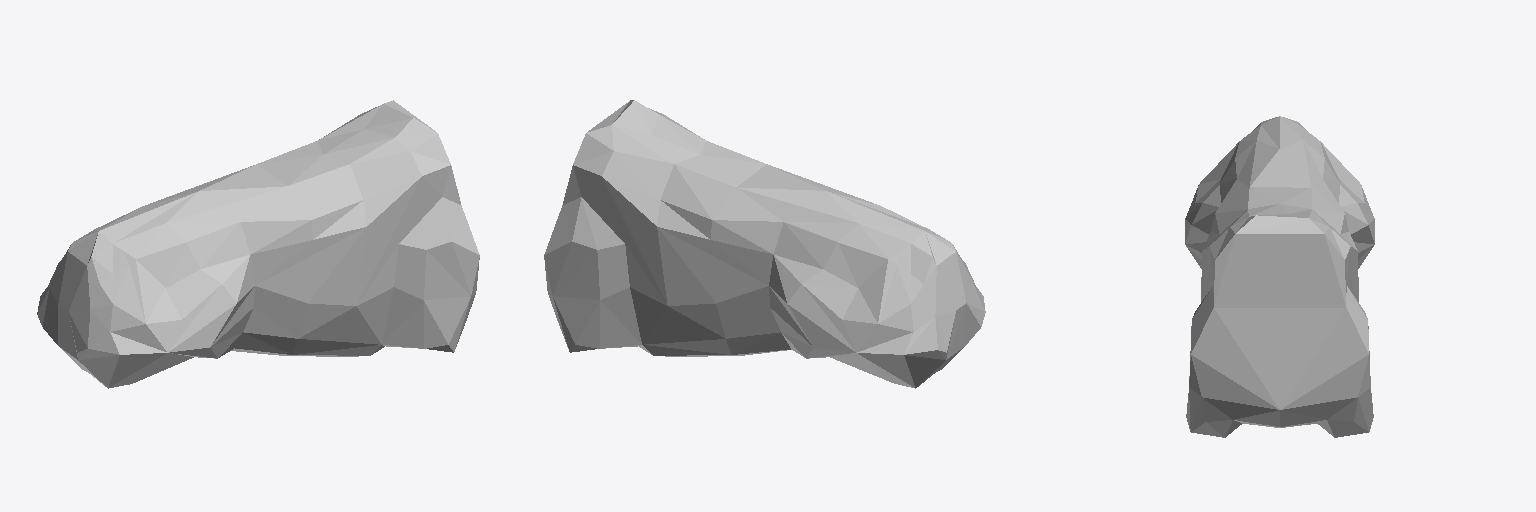
The model's file is wolf_body.obj.
3 views of the same model, side by side, from view 1: azimuth 30°, elevation 25°; view 2: azimuth 150°, elevation 25°; view 3: azimuth 270°, elevation 25° (orthographic).
Parts seen in each view (by area): view 1: Wolf; view 2: Wolf; view 3: Wolf.
Part boxes in pixels (bbox=[...]): Wolf: bbox=[37, 100, 479, 388]; Wolf: bbox=[544, 100, 985, 388]; Wolf: bbox=[1185, 116, 1374, 437].
Bounding box in the file's own units: 0.9431 × 0.5125 × 0.3951.